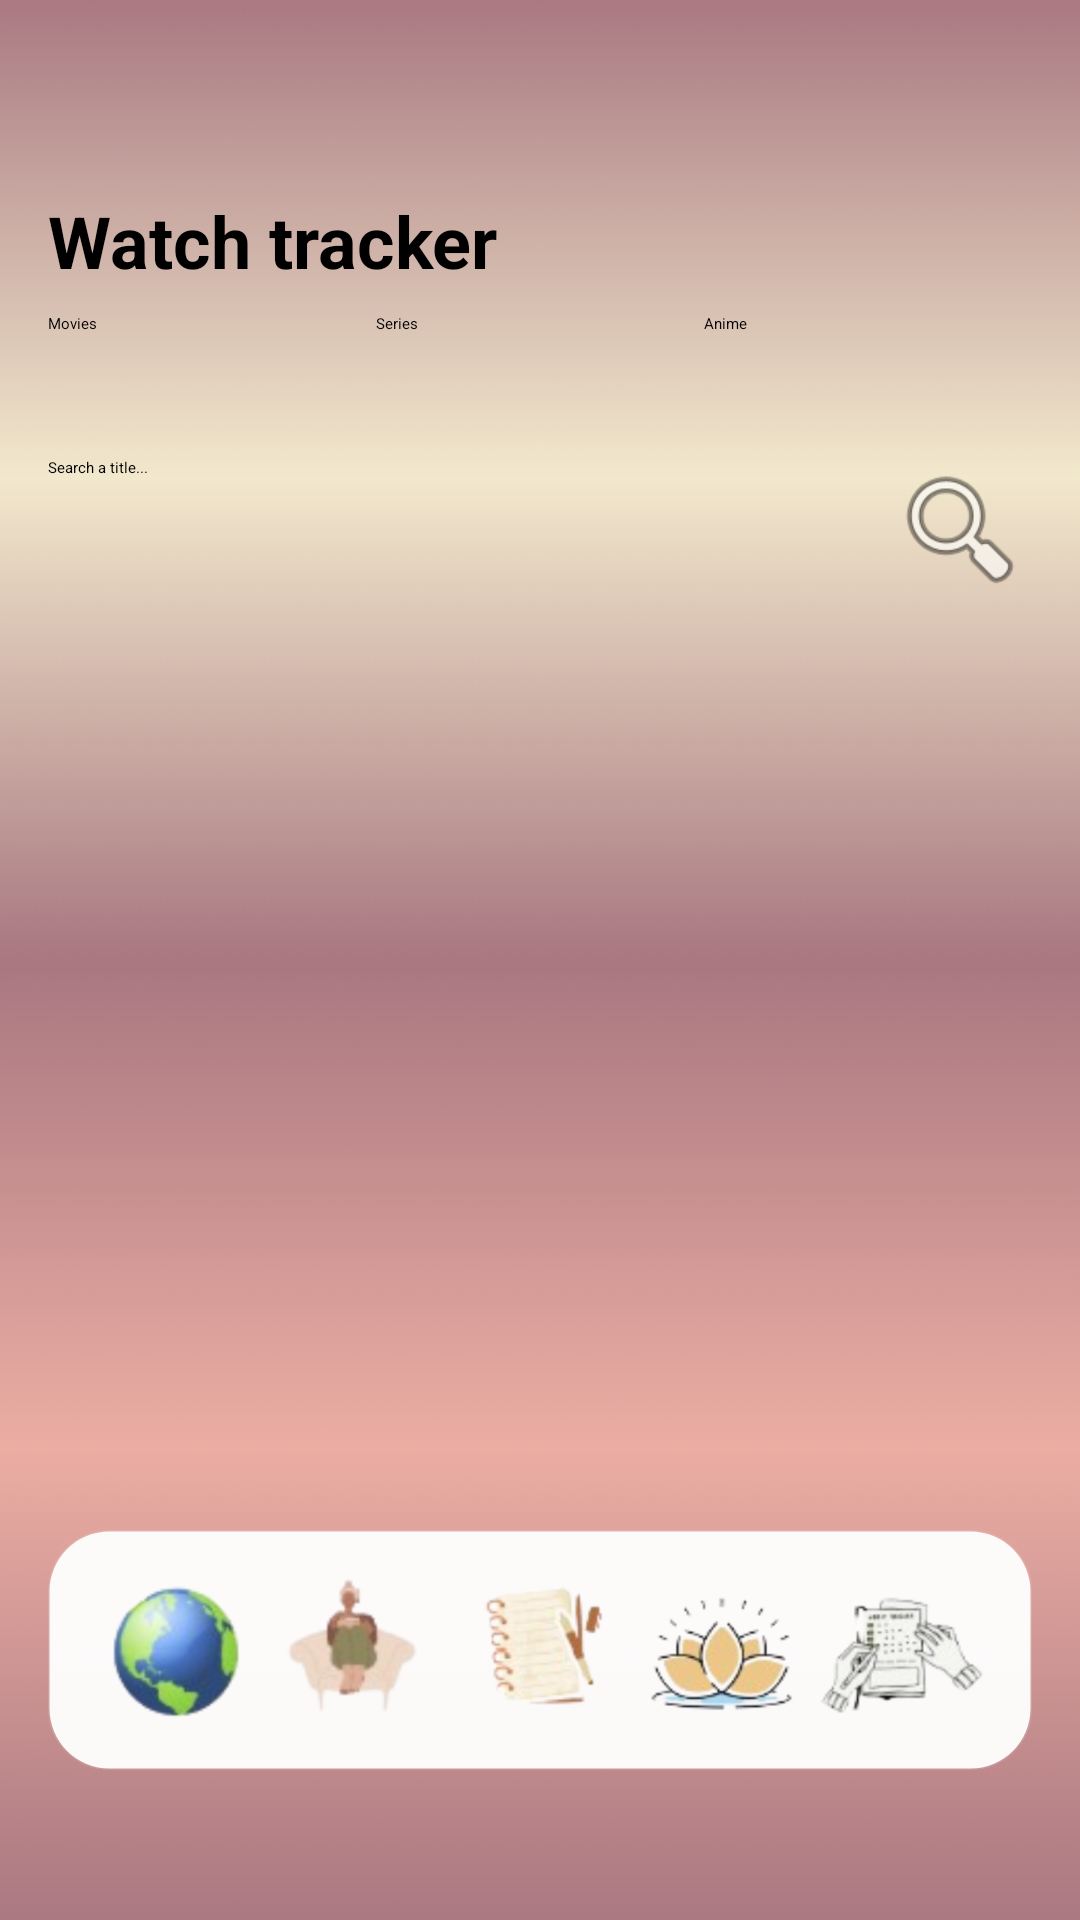

Where to tap for icons on this 1080 x 1920 app screen, as (x=x, y=y):
divertissement: (x=352, y=1644)
habits: (x=902, y=1655)
journal: (x=544, y=1646)
travels: (x=176, y=1651)
